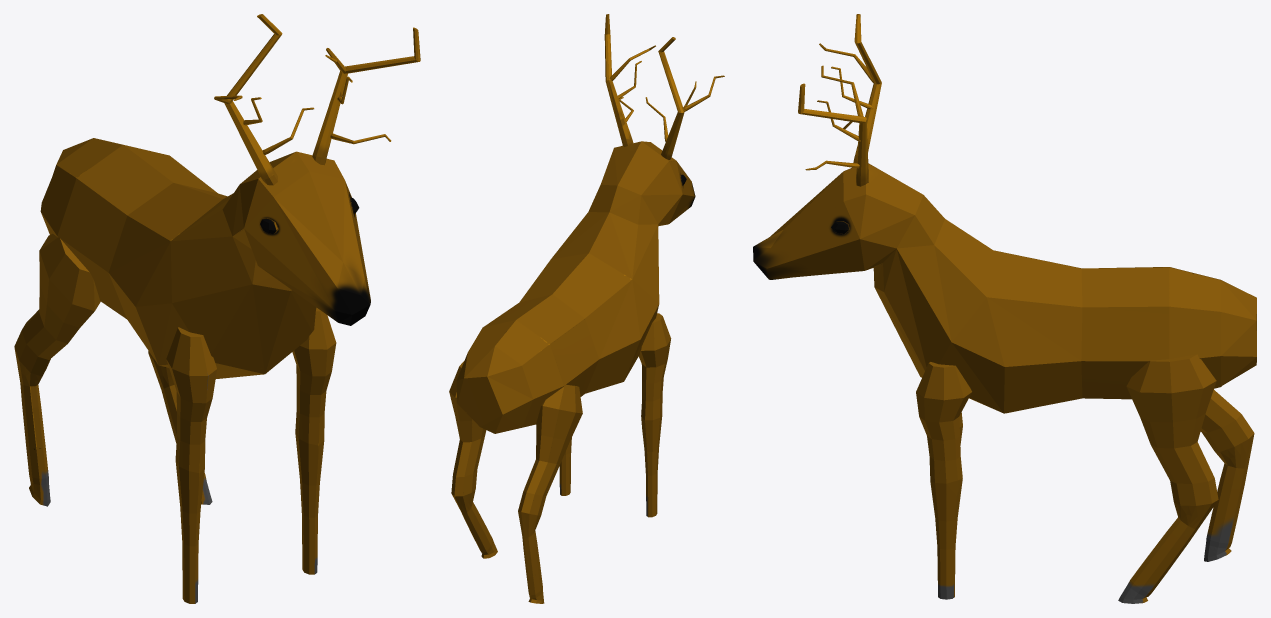
The model's file is deer.obj.
The picture shows the model from 3 angles, left to right: view 1: azimuth 30°, elevation 25°; view 2: azimuth 150°, elevation 25°; view 3: azimuth 270°, elevation 25°; orthographic projection. The views are drawn at different scales.
Visible parts, largest first — view 1: Body_Cylinder; view 2: Body_Cylinder; view 3: Body_Cylinder.
Boxes of the visible parts, x1,y1,x2,y2 form: Body_Cylinder: [14, 14, 420, 603]; Body_Cylinder: [449, 14, 724, 603]; Body_Cylinder: [753, 14, 1256, 603].
Bounding box in the file's own units: 2.24 × 7.68 × 6.33.
Materials: 1 (1 with a texture image).
